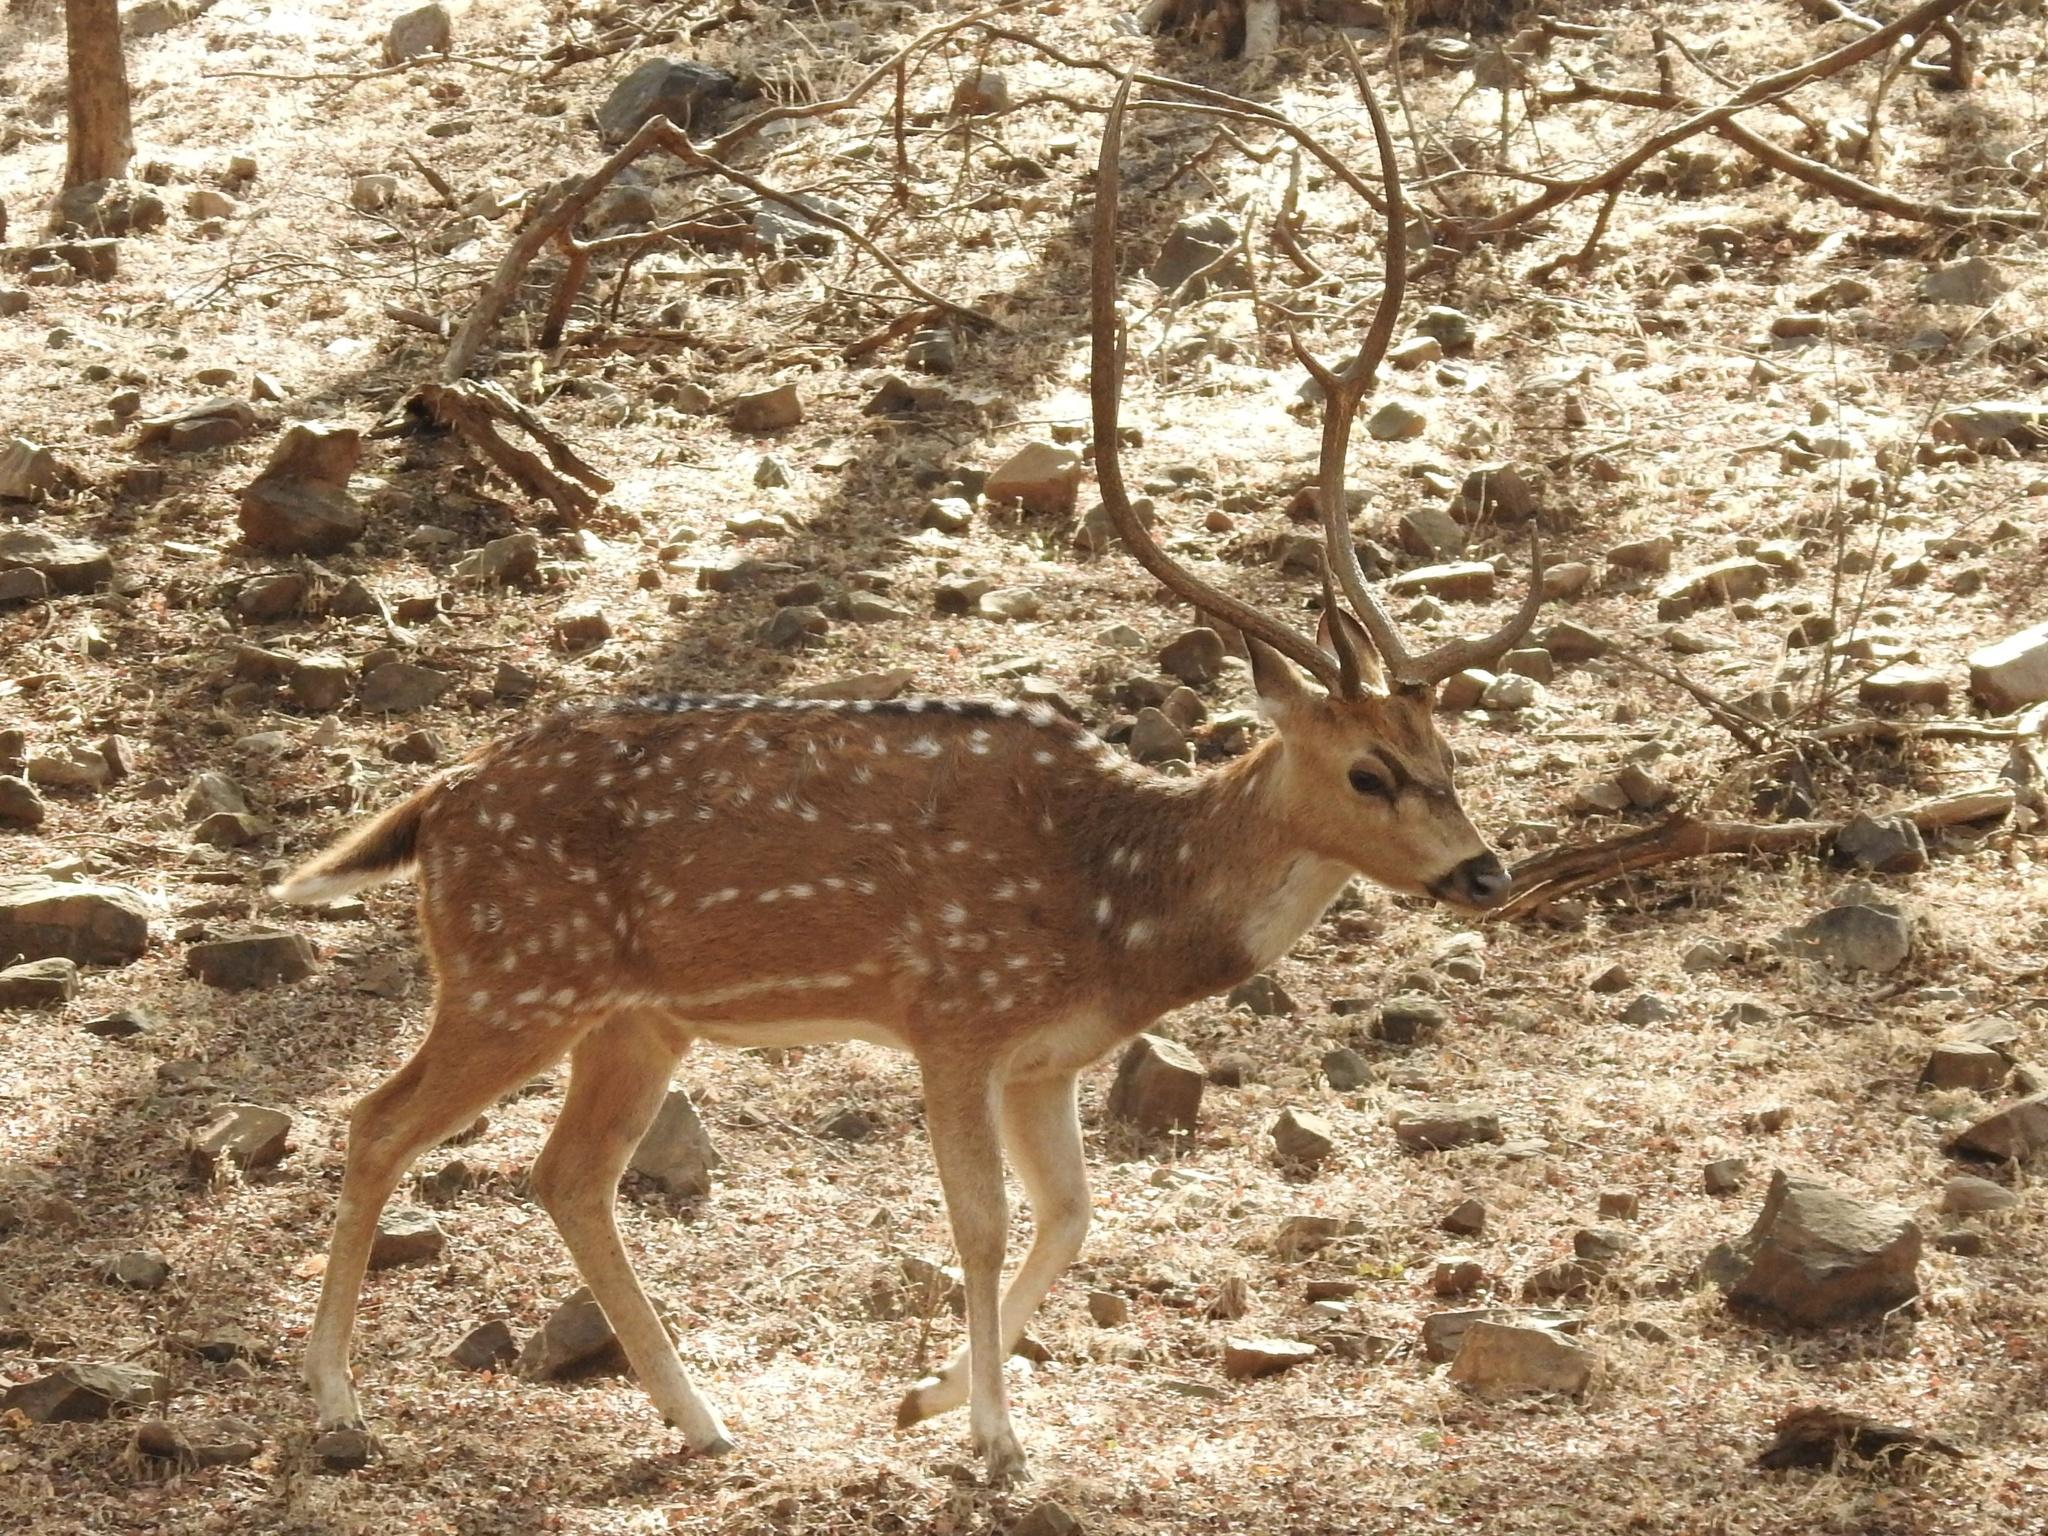Deer: (276, 53, 1540, 1480)
